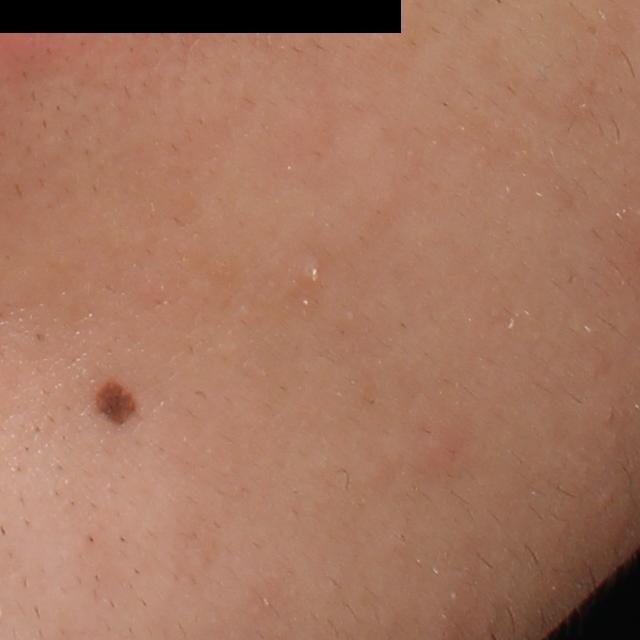comedo: (296, 254, 325, 286)
nevus: (93, 377, 140, 427)
